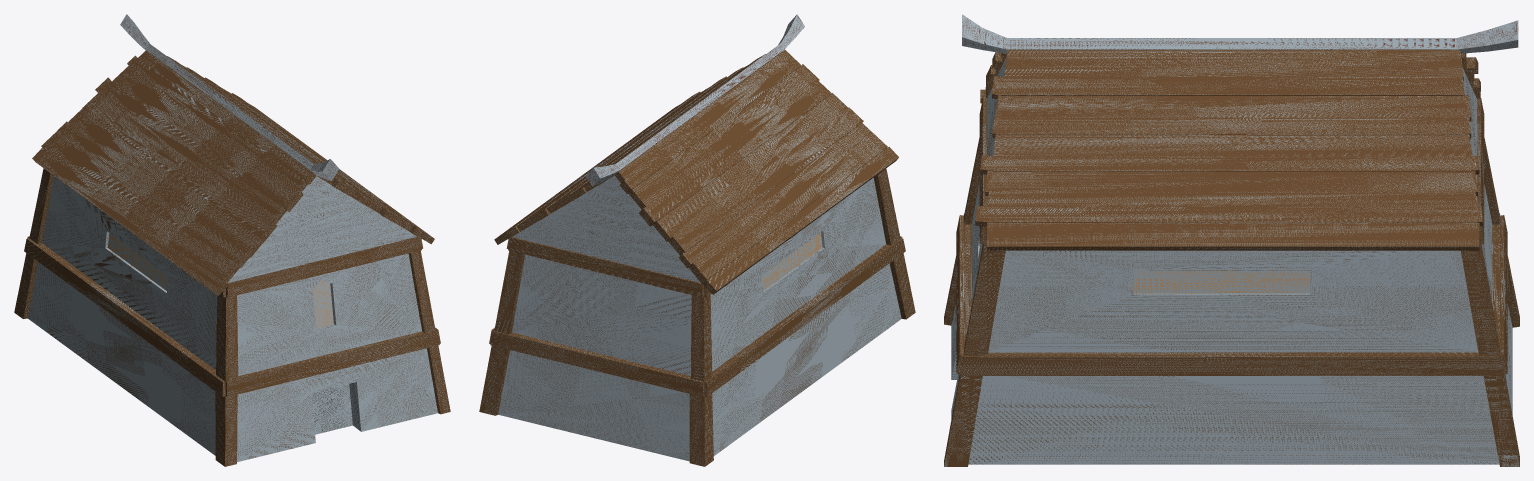
The model's file is Building_Viking_01.fbx.
3 renders of one model, left to right at view 1: azimuth 30°, elevation 25°; view 2: azimuth 150°, elevation 25°; view 3: azimuth 270°, elevation 25°, orthographic. The views are drawn at different scales.
Parts seen in each view (by area): view 1: Model; view 2: Model; view 3: Model.
Boxes of the visible parts, box(x1,y1,x2,y2) form: Model: box(14, 14, 450, 466); Model: box(479, 14, 915, 466); Model: box(944, 14, 1519, 466).
Size of the model in its own units: 1342 by 1574 by 2172.
